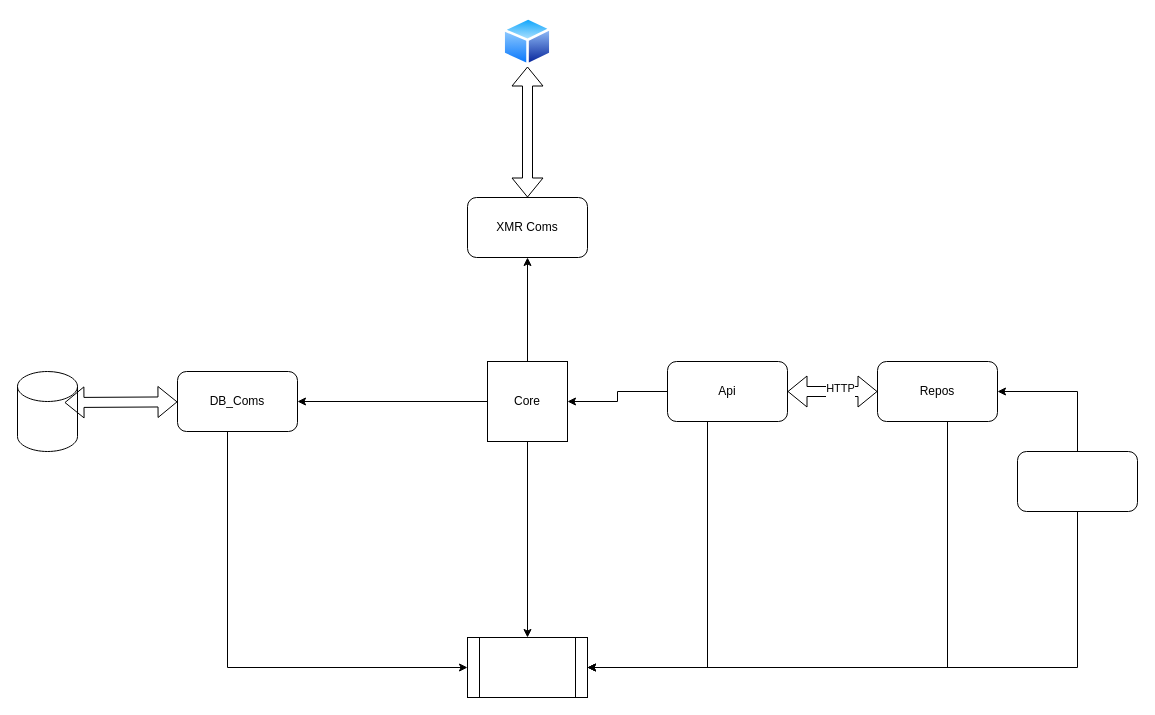
The diagram is 1155 pixels wide and 715 high, and some of its shapes have lost their labels. The centre of each missing label's shape, as x and y in pixels:
"DB" goes at pixel 47 411.
"Entities" goes at pixel 527 667.
"Frontends" goes at pixel 1077 481.
